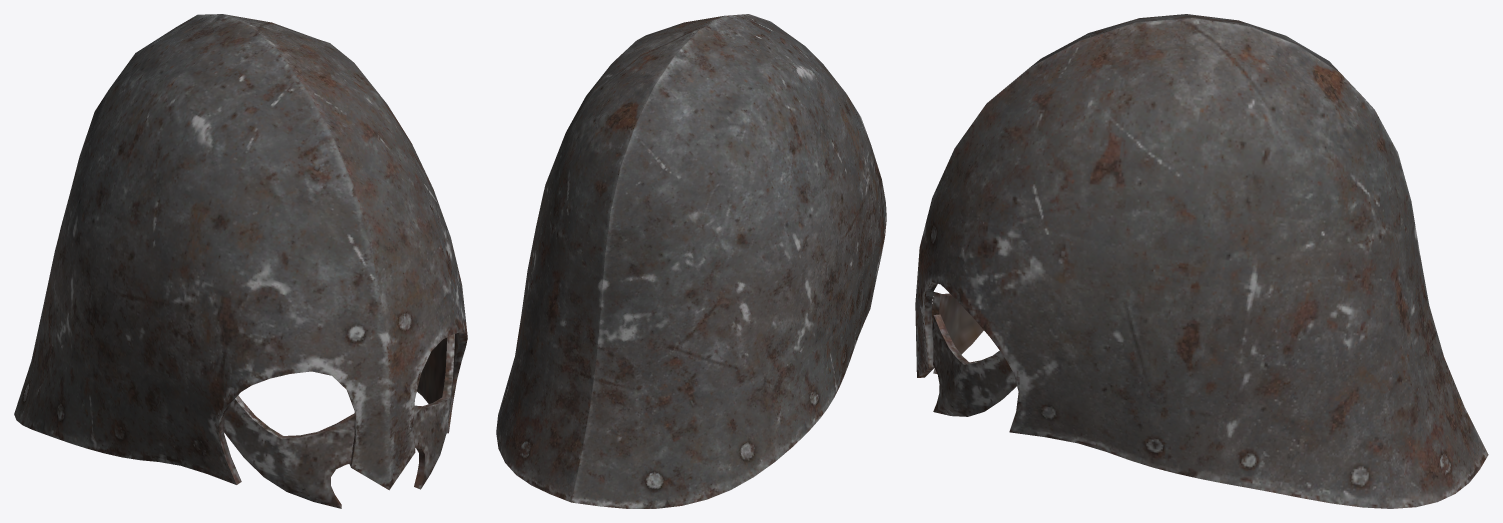
The model's file is sk_gb_uruk_helmet_med_a.fbx.
3 views of the same model, side by side, from view 1: azimuth 30°, elevation 25°; view 2: azimuth 150°, elevation 25°; view 3: azimuth 270°, elevation 25° (orthographic). The views are drawn at different scales.
Parts seen in each view (by area): view 1: sk_gb_uruk_helmet_med_a; view 2: sk_gb_uruk_helmet_med_a; view 3: sk_gb_uruk_helmet_med_a.
Boxes of the visible parts, left/top/right/bottom form: sk_gb_uruk_helmet_med_a: left=14, top=14, right=467, bottom=508; sk_gb_uruk_helmet_med_a: left=496, top=14, right=886, bottom=508; sk_gb_uruk_helmet_med_a: left=915, top=14, right=1488, bottom=508.
Size of the model in its own units: 0.2034 by 0.3051 by 0.2585.
Materials: 1 (1 with a texture image).
